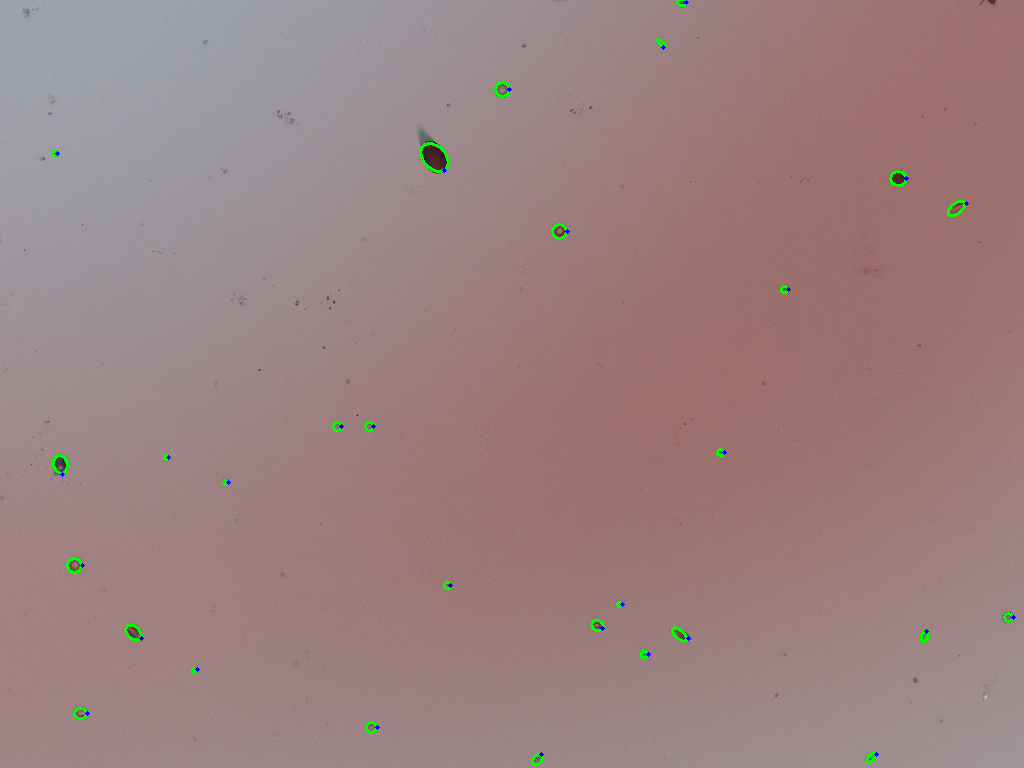circle: (552, 223, 567, 238), (494, 82, 509, 97), (67, 558, 82, 572), (366, 722, 377, 732), (1003, 612, 1013, 622), (364, 422, 373, 431), (333, 422, 341, 430), (781, 285, 788, 293), (443, 582, 450, 589), (641, 650, 648, 657), (222, 479, 228, 484), (192, 667, 197, 672), (617, 602, 622, 606), (164, 455, 168, 459), (53, 151, 57, 155)
ellipse: (421, 141, 447, 173), (52, 455, 68, 474), (125, 624, 142, 640), (590, 619, 603, 630)
